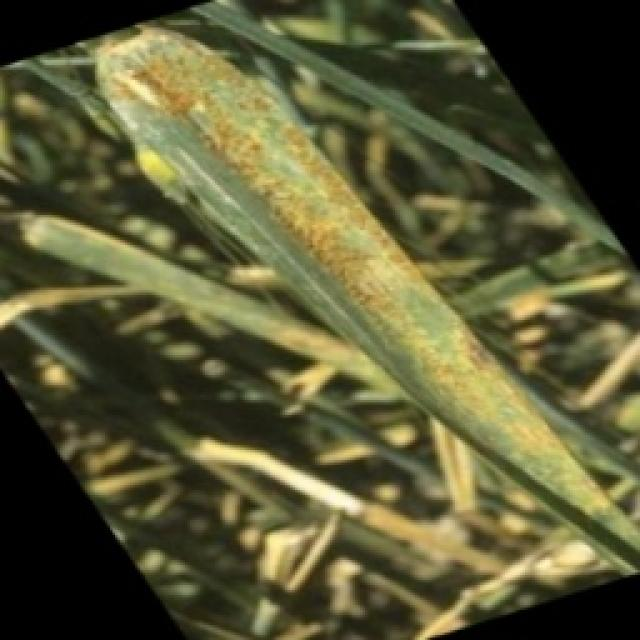Elderberry_rust: (124, 40, 612, 512)
